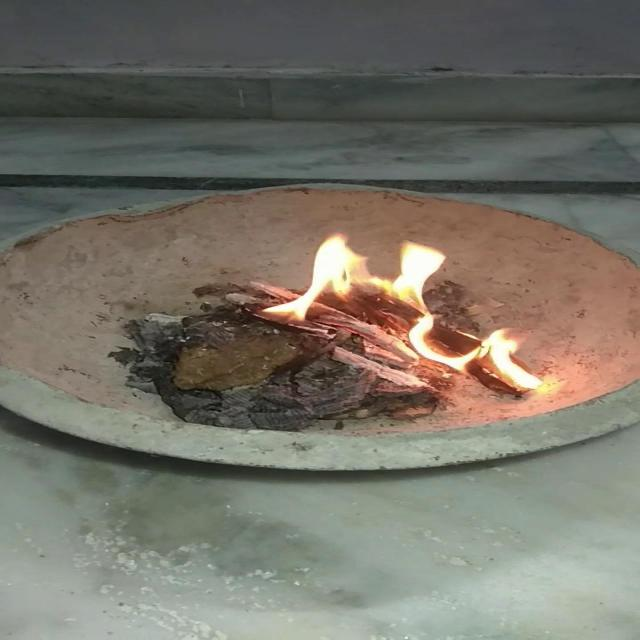fire: (269, 236, 562, 394)
